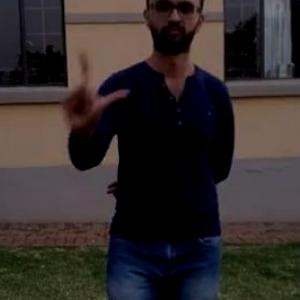land_hand: (58, 45, 128, 129)
